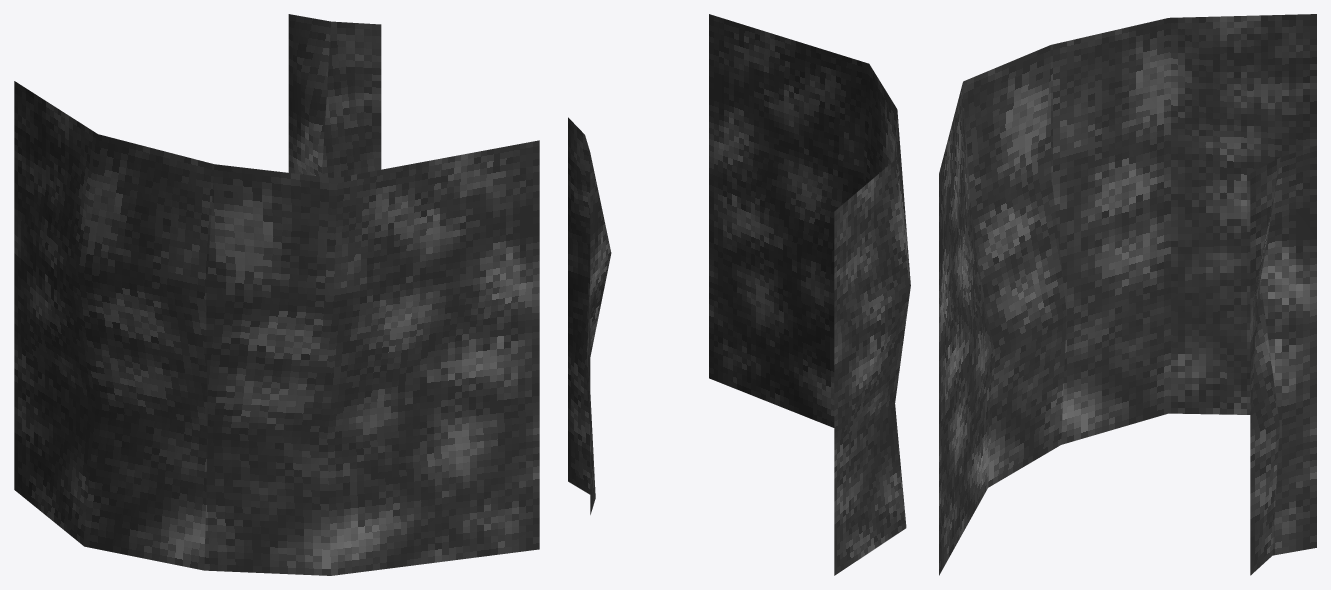
File: Turn Piece.fbx
3 renders of one model, left to right at view 1: azimuth 30°, elevation 25°; view 2: azimuth 150°, elevation 25°; view 3: azimuth 270°, elevation 25°, orthographic. The views are drawn at different scales.
Visible parts, largest first — view 1: Turn Piece; view 2: Turn Piece; view 3: Turn Piece.
Part boxes in pixels (x1,y1,x2,y2): Turn Piece: (14, 14, 539, 575); Turn Piece: (568, 14, 910, 575); Turn Piece: (939, 14, 1316, 575).
Bounding box in the file's own units: 175 × 200 × 170.
